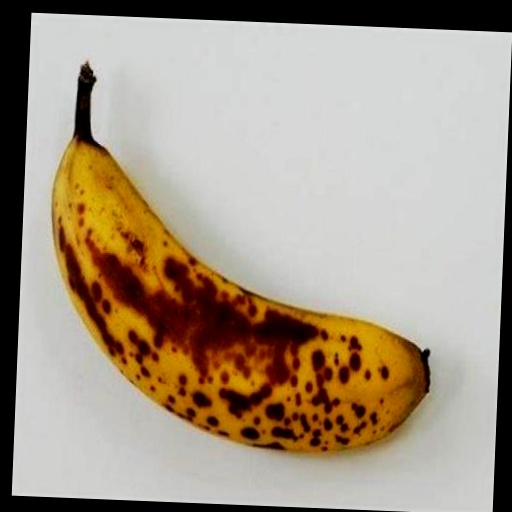fruit: (52, 64, 429, 451)
